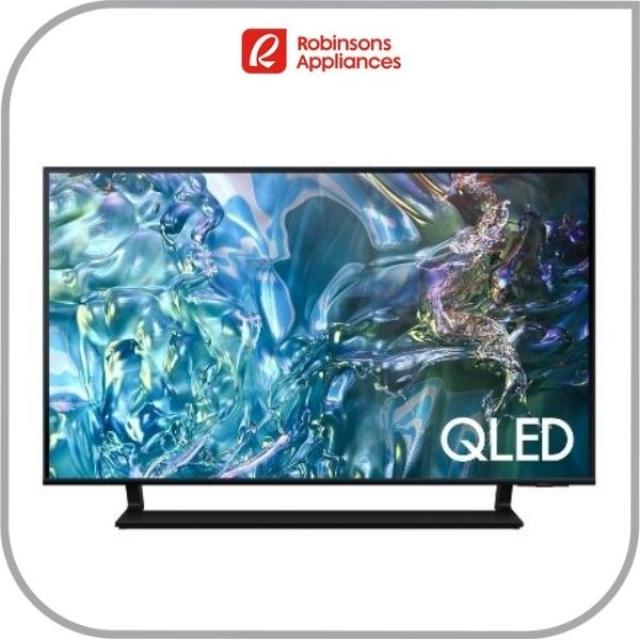appliances: (43, 169, 593, 524)
electronics: (439, 417, 574, 461), (502, 427, 503, 430)
